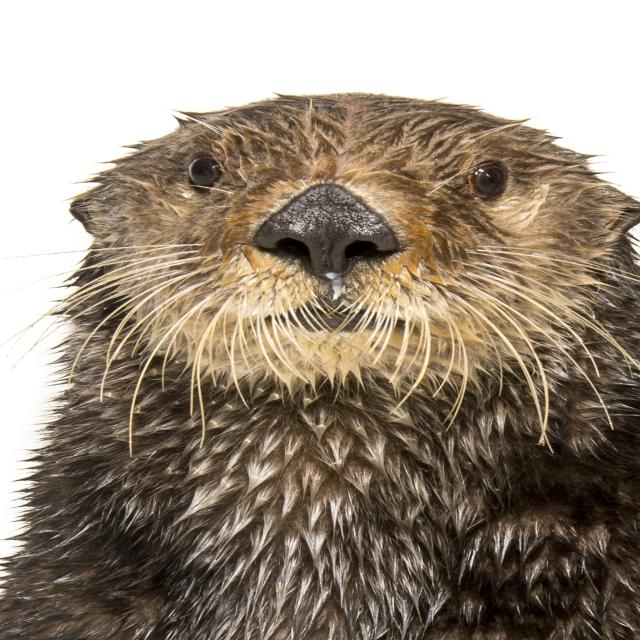Otter: (36, 95, 640, 640)
